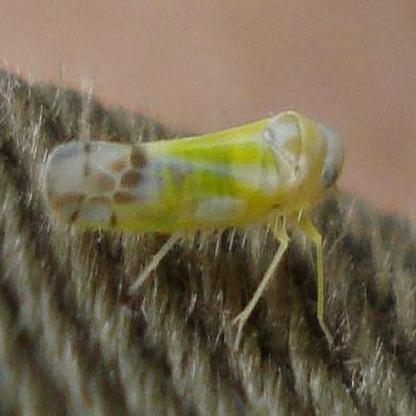green-leafhopper: (46, 119, 346, 252)
